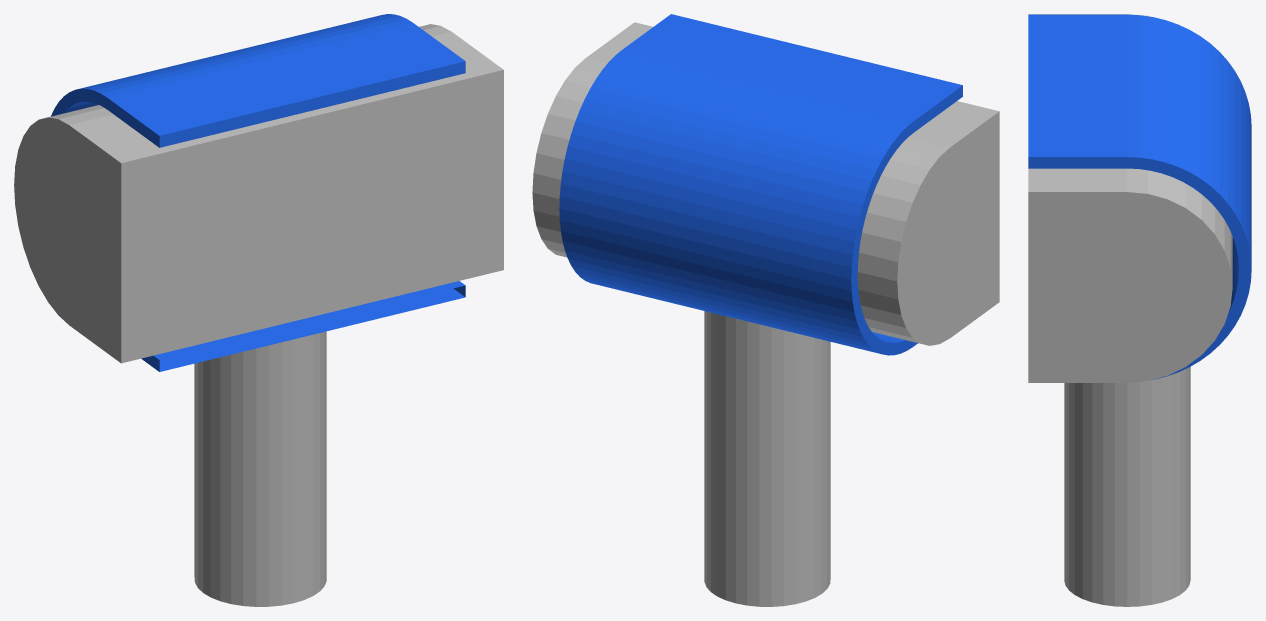
Rendered from 传送带 端点 (1).fbx.
3 views of the same model, side by side, from view 1: azimuth 30°, elevation 25°; view 2: azimuth 150°, elevation 25°; view 3: azimuth 270°, elevation 25° (orthographic). The views are drawn at different scales.
Parts seen in each view (by area): view 1: 传送带.002; view 2: 传送带.002; view 3: 传送带.002.
Part boxes in pixels (bbox=[...]): 传送带.002: bbox=[14, 14, 503, 606]; 传送带.002: bbox=[532, 14, 999, 606]; 传送带.002: bbox=[1028, 14, 1251, 606].
Size of the model in its own units: 100 by 130 by 53.02.
